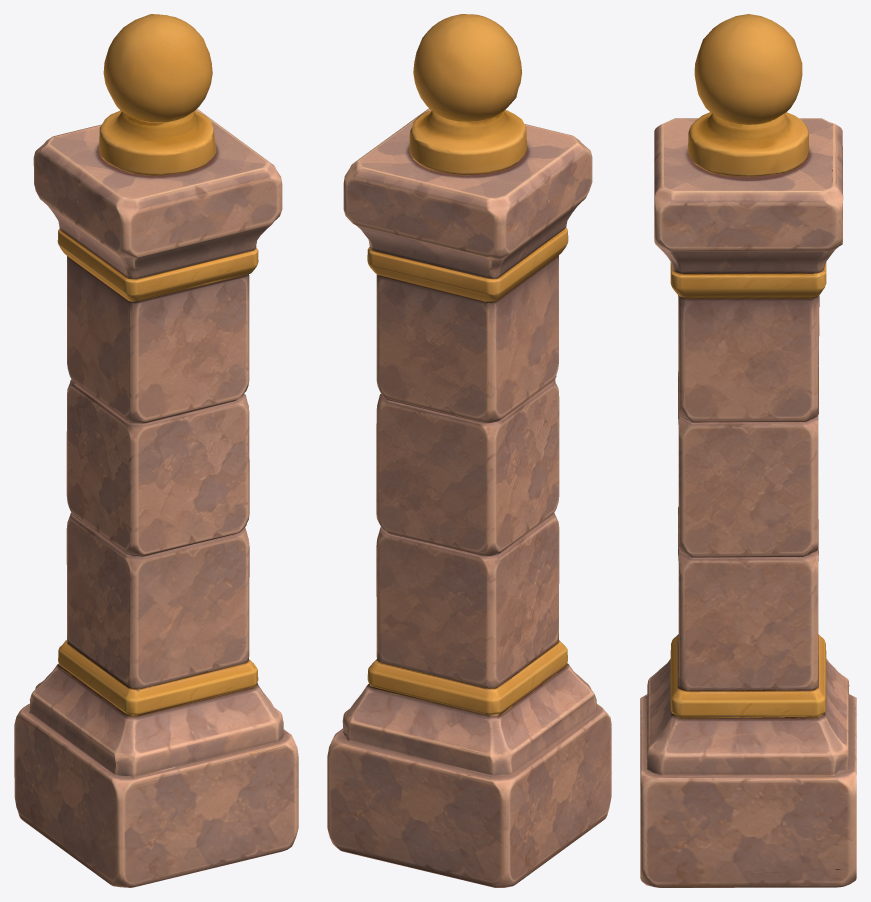
The model's file is pier.glb.
3 renders of one model, left to right at view 1: azimuth 30°, elevation 25°; view 2: azimuth 150°, elevation 25°; view 3: azimuth 270°, elevation 25°, orthographic.
Size of the model in its own units: 0.2227 by 0.9507 by 0.2261.
Materials: 1 (1 with a texture image).
